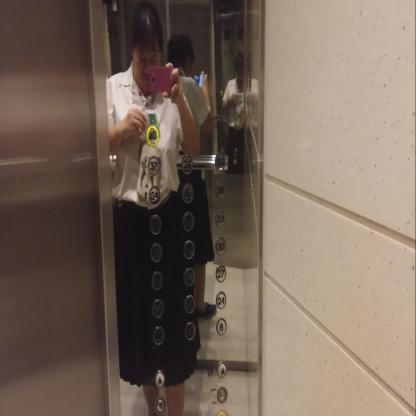24: (215, 290, 226, 310)
27: (215, 262, 226, 282)
30: (214, 235, 226, 256)
32: (182, 210, 194, 232)
33: (214, 208, 226, 228)
34: (148, 186, 160, 206)
35: (181, 182, 194, 204)
36: (214, 180, 225, 200)
37: (147, 155, 159, 175)
39: (214, 150, 225, 172)
40: (146, 124, 159, 146), (181, 153, 193, 175)
8: (215, 316, 227, 336)
blur: (148, 213, 162, 235), (149, 241, 163, 263), (150, 269, 164, 291), (150, 297, 164, 319), (151, 324, 165, 346), (182, 293, 196, 314), (182, 320, 196, 341), (182, 265, 195, 287), (182, 238, 194, 260)
keyhole: (154, 394, 166, 415), (216, 384, 228, 404)
unknown: (153, 368, 165, 389), (216, 360, 226, 379)
